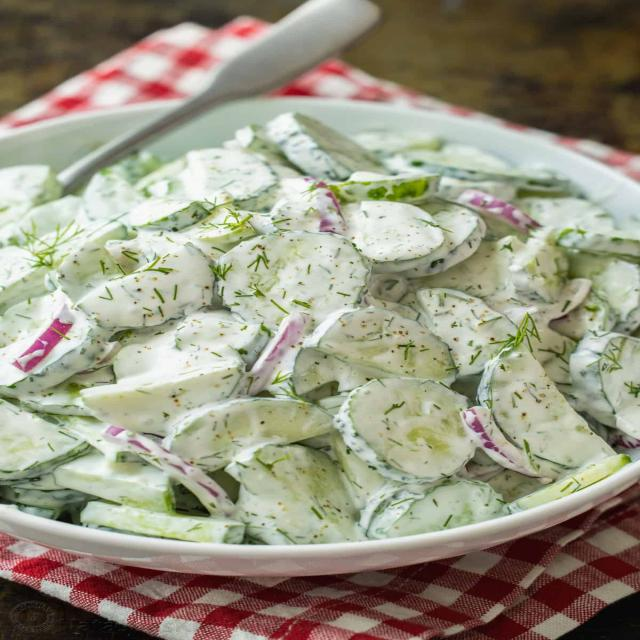Pickle: (81, 310, 270, 436), (478, 345, 615, 468), (216, 231, 371, 330), (334, 378, 476, 482), (225, 444, 366, 545), (163, 398, 334, 471), (302, 308, 458, 385), (77, 244, 214, 329), (416, 288, 518, 376), (343, 201, 444, 264), (180, 149, 278, 200), (56, 242, 124, 301), (82, 170, 142, 220)
